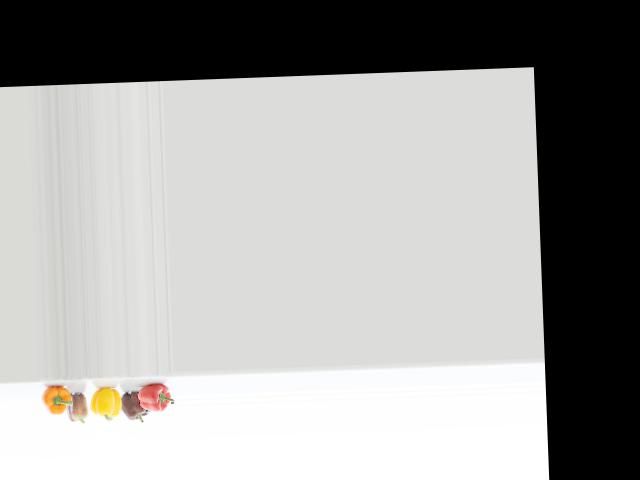bell_pepper: (40, 381, 73, 425)
